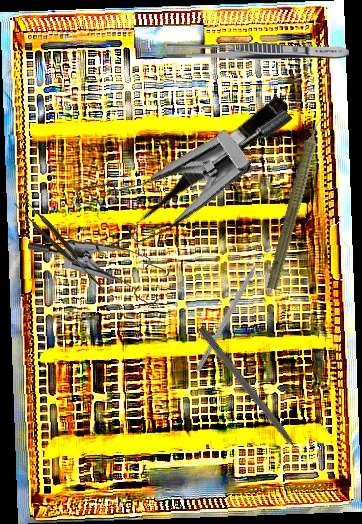Chopper: (194, 246, 275, 377)
Dressing Forceps: (167, 43, 349, 61)
Handpiece: (263, 109, 332, 293)
Micro Scissor: (125, 89, 293, 232)
Pusher: (196, 325, 313, 471)
Speculum: (53, 41, 297, 292), (27, 236, 173, 311)
Tissue Forceps: (12, 194, 109, 296)
